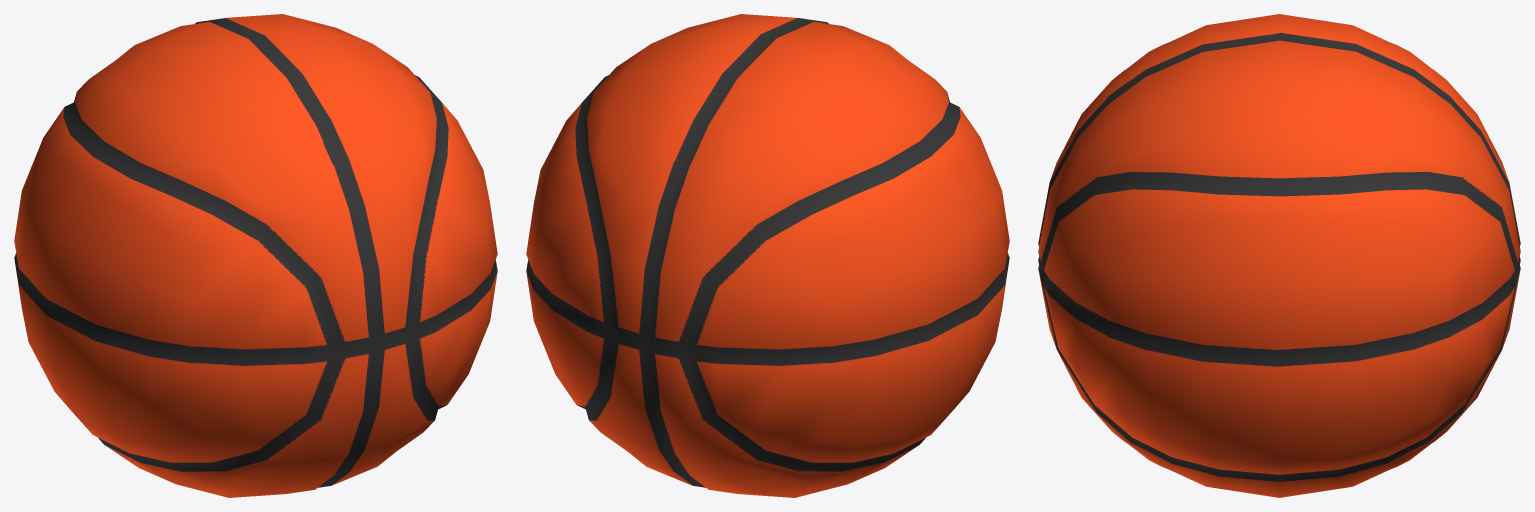
File: BasketV1.fbx
The picture shows the model from 3 angles, left to right: view 1: azimuth 30°, elevation 25°; view 2: azimuth 150°, elevation 25°; view 3: azimuth 270°, elevation 25°; orthographic projection.
Visible parts, largest first — view 1: BasketV1; view 2: BasketV1; view 3: BasketV1.
Boxes of the visible parts, <box> form: BasketV1: <box>14,14,497,497</box>; BasketV1: <box>526,14,1009,497</box>; BasketV1: <box>1038,14,1520,497</box>.
Size of the model in its own units: 192 by 192 by 192.
